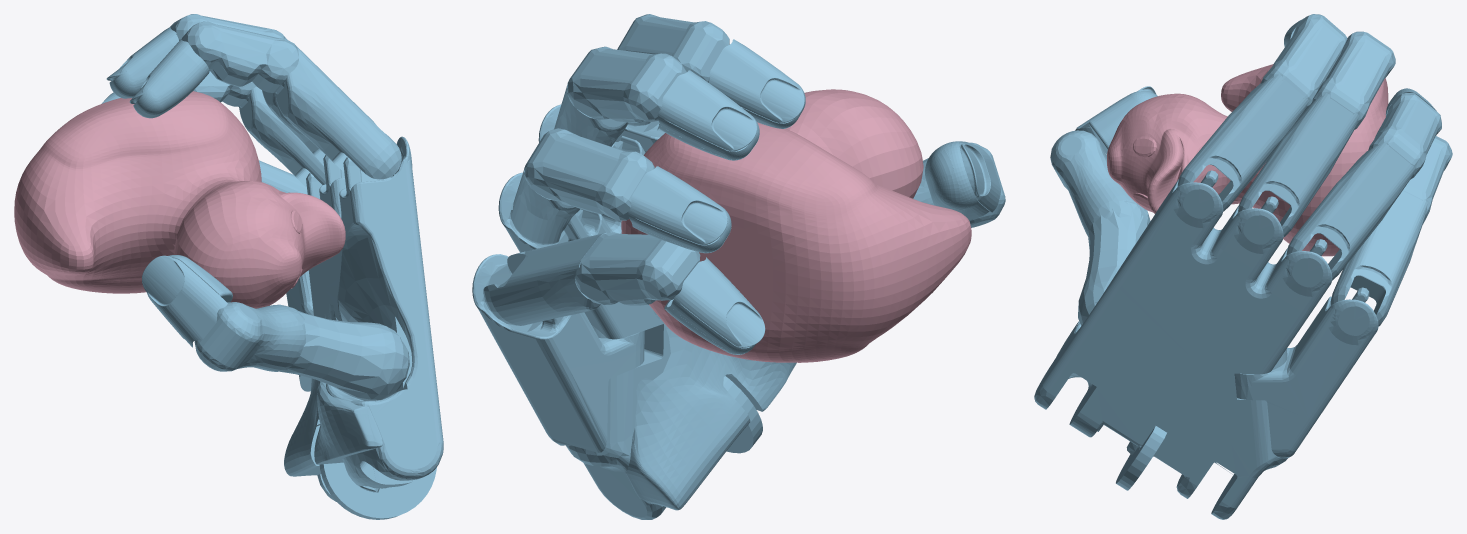
File: ShadowHand_contactdb+rubber_duck_mesh.glb
3 renders of one model, left to right at view 1: azimuth 30°, elevation 25°; view 2: azimuth 150°, elevation 25°; view 3: azimuth 270°, elevation 25°, orthographic. The views are drawn at different scales.
Parts seen in each view (by area): view 1: world; view 2: world; view 3: world.
Part boxes in pixels (x1,y1,x2,y2): world: (14,14,443,519); world: (472,14,1005,519); world: (1034,14,1452,519).
Bounding box in the file's own units: 0.1321 × 0.1702 × 0.1426.
